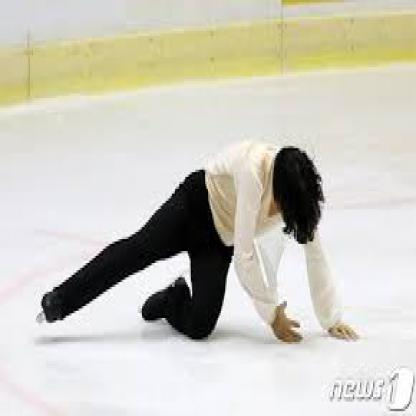Fall_Down: (40, 141, 363, 344)
